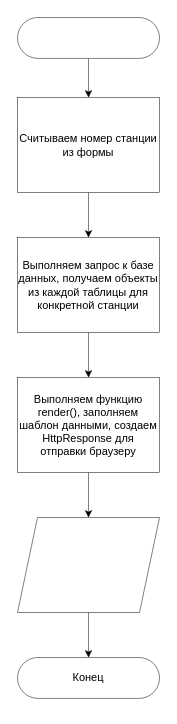
This 177x724 diagram has some shape labels left out. The shapes that lost their labels are listed below. From the top down, each one's box as (x1, y1, x2, y2) in pixels, then its label:
(17, 17, 159, 58): Начало
(17, 517, 159, 612): Вывод заполненного шаблона
